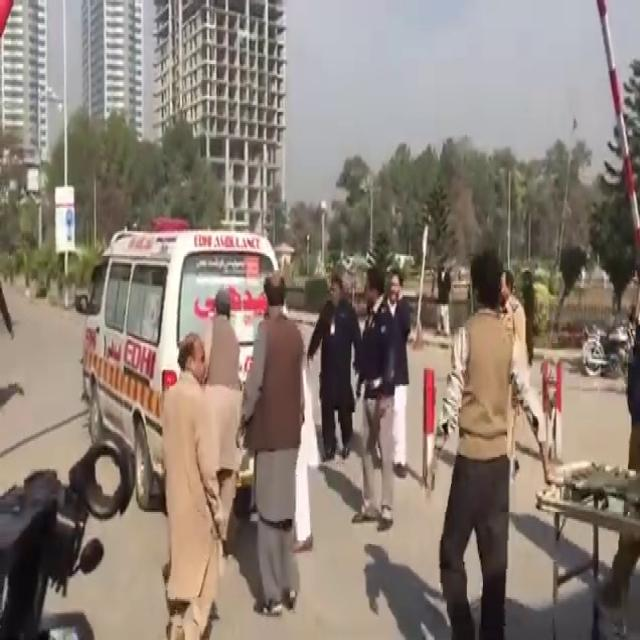ambulance: (81, 234, 282, 473)
